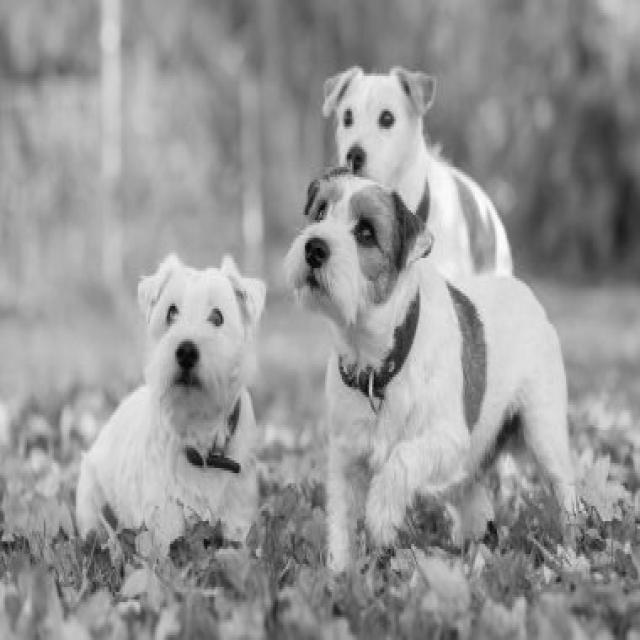Animal: (285, 173, 576, 570), (78, 255, 265, 540), (322, 67, 512, 280)
